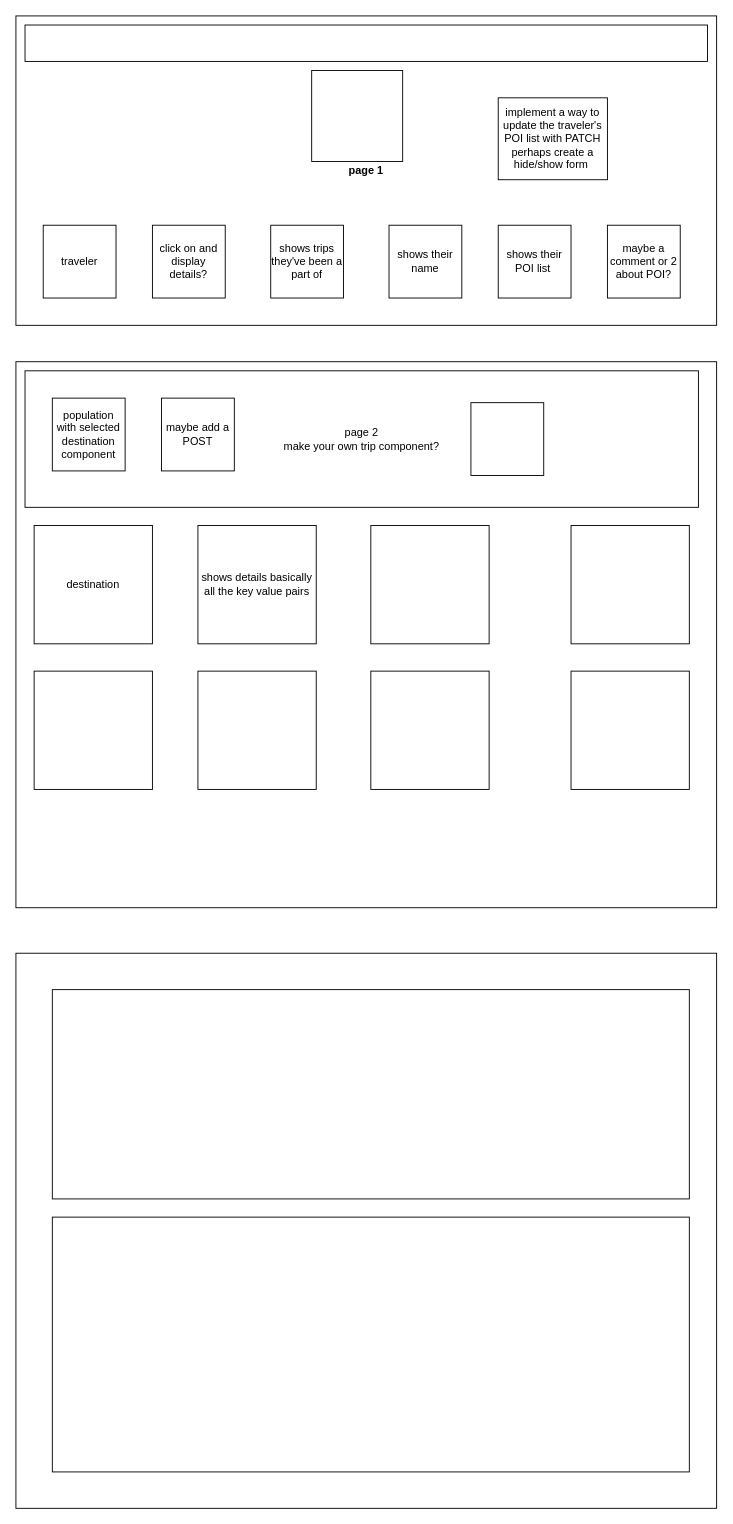
Image size: 733x1524. Some labels were removed from this diagram. Here are the shapes that lost their labels. From the top down, the centre of each, then its label:
At point (366, 42): "Hear from our Caravan travelers for advice your your next trip!".
At point (357, 116): "area to display details? add show hide form button at foot of details".
At point (370, 1094): "add yourself as a traveler with your own trips and destinations with a form ???".
